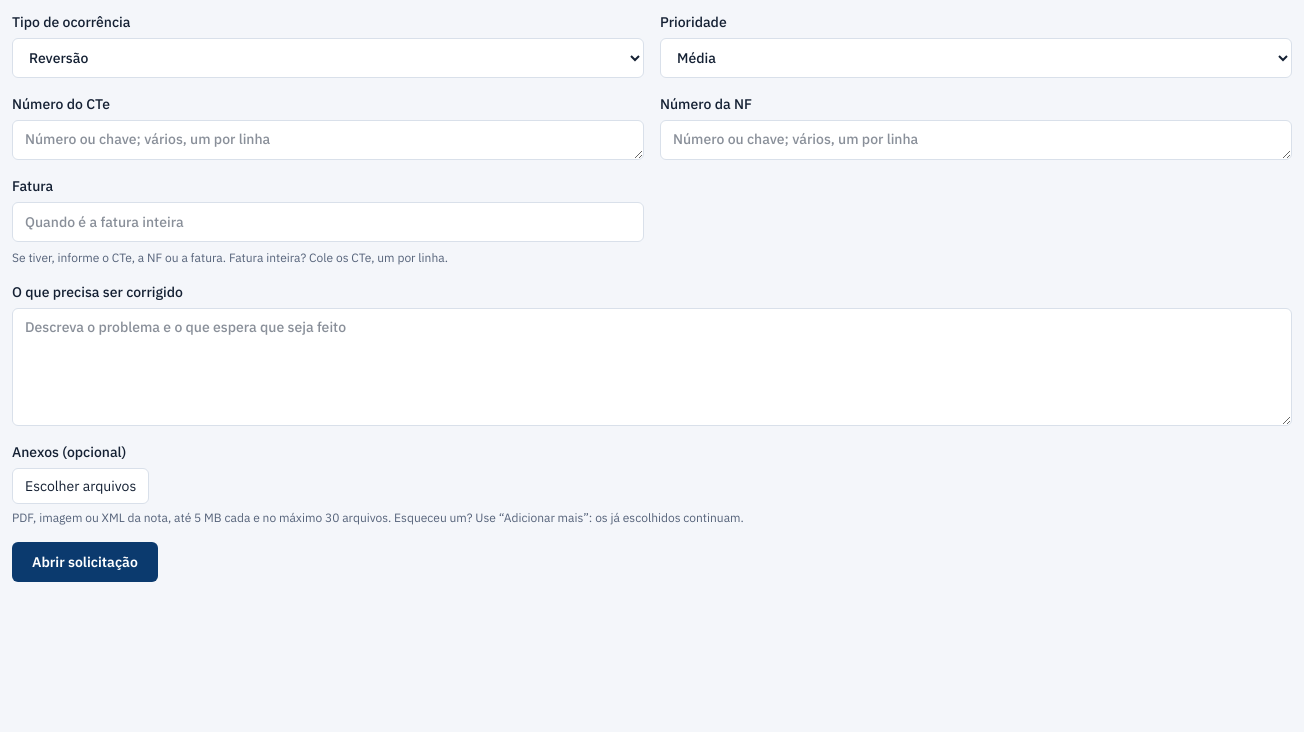
Scenario: FormularioDeAbertura › abre e mostra o protocolo
Type "12345" into the text box labelled "Número do CTe" at {"x": 328, "y": 140}, box [12, 120, 644, 160]
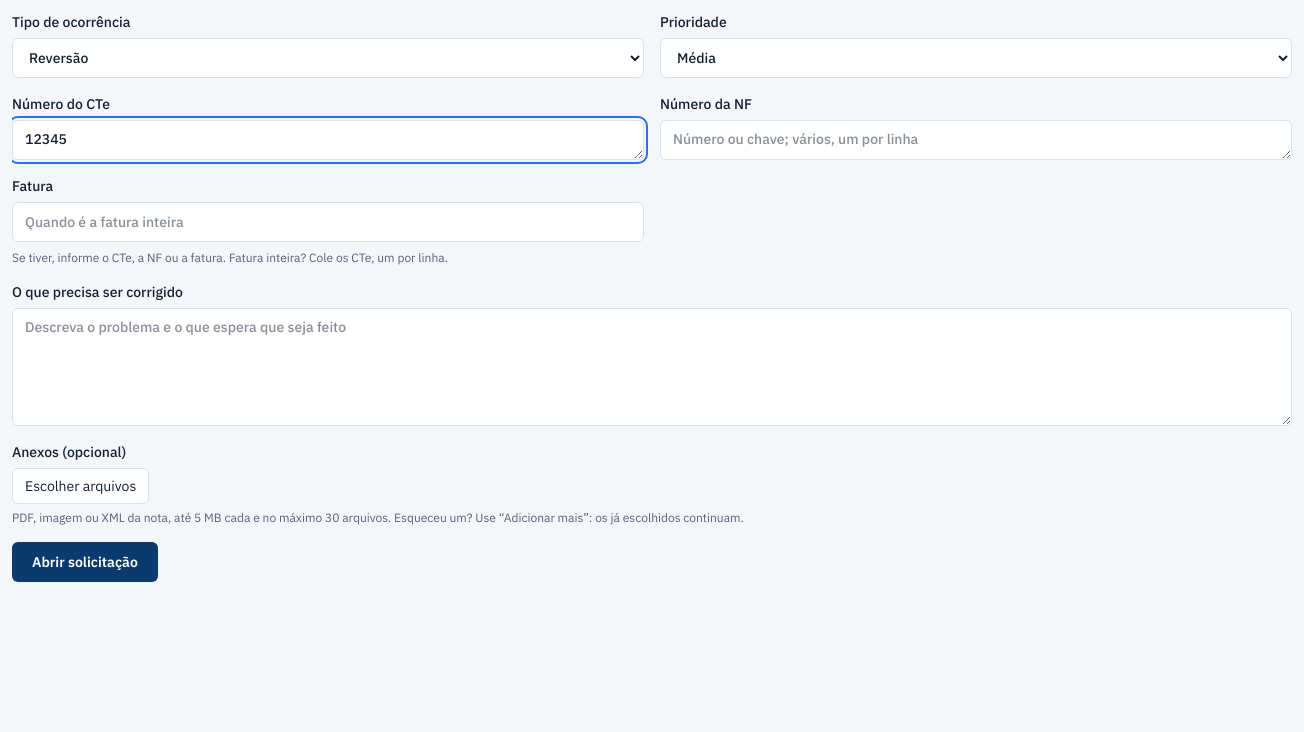
Type "Mercadoria recusada, emitir reversão." into the text box labelled "O que precisa ser corrigido" at {"x": 652, "y": 367}, box [12, 308, 1292, 426]
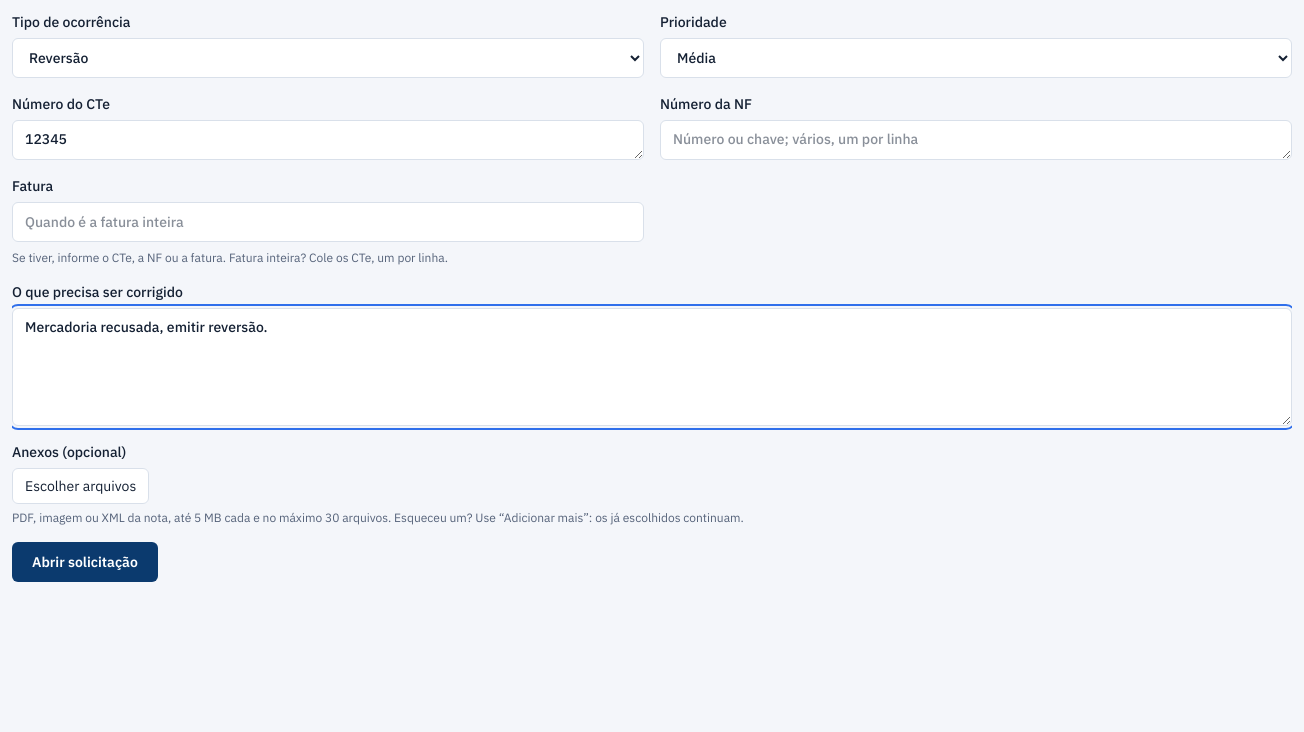
Click the button "Abrir solicitação" at {"x": 85, "y": 562}, box [12, 542, 158, 582]
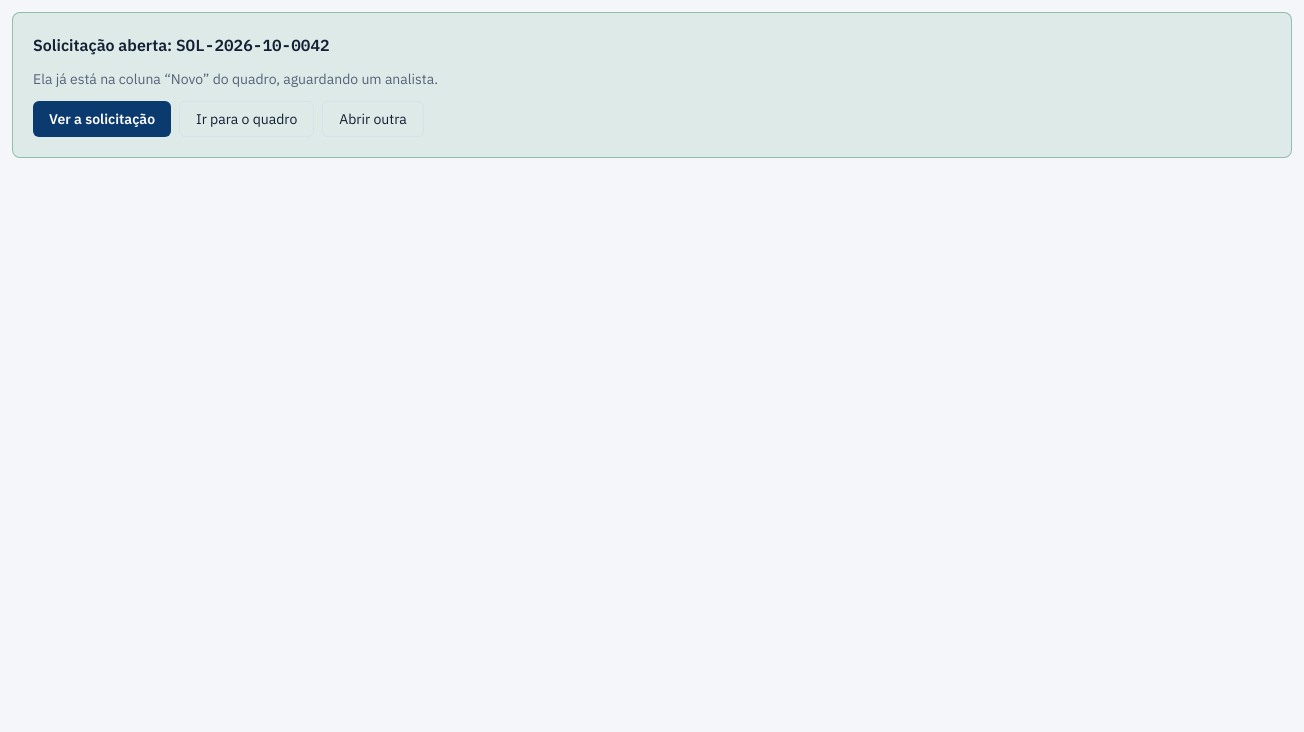
Check: the text "SOL-2026-10-0042" is shown, box [176, 35, 330, 55]
